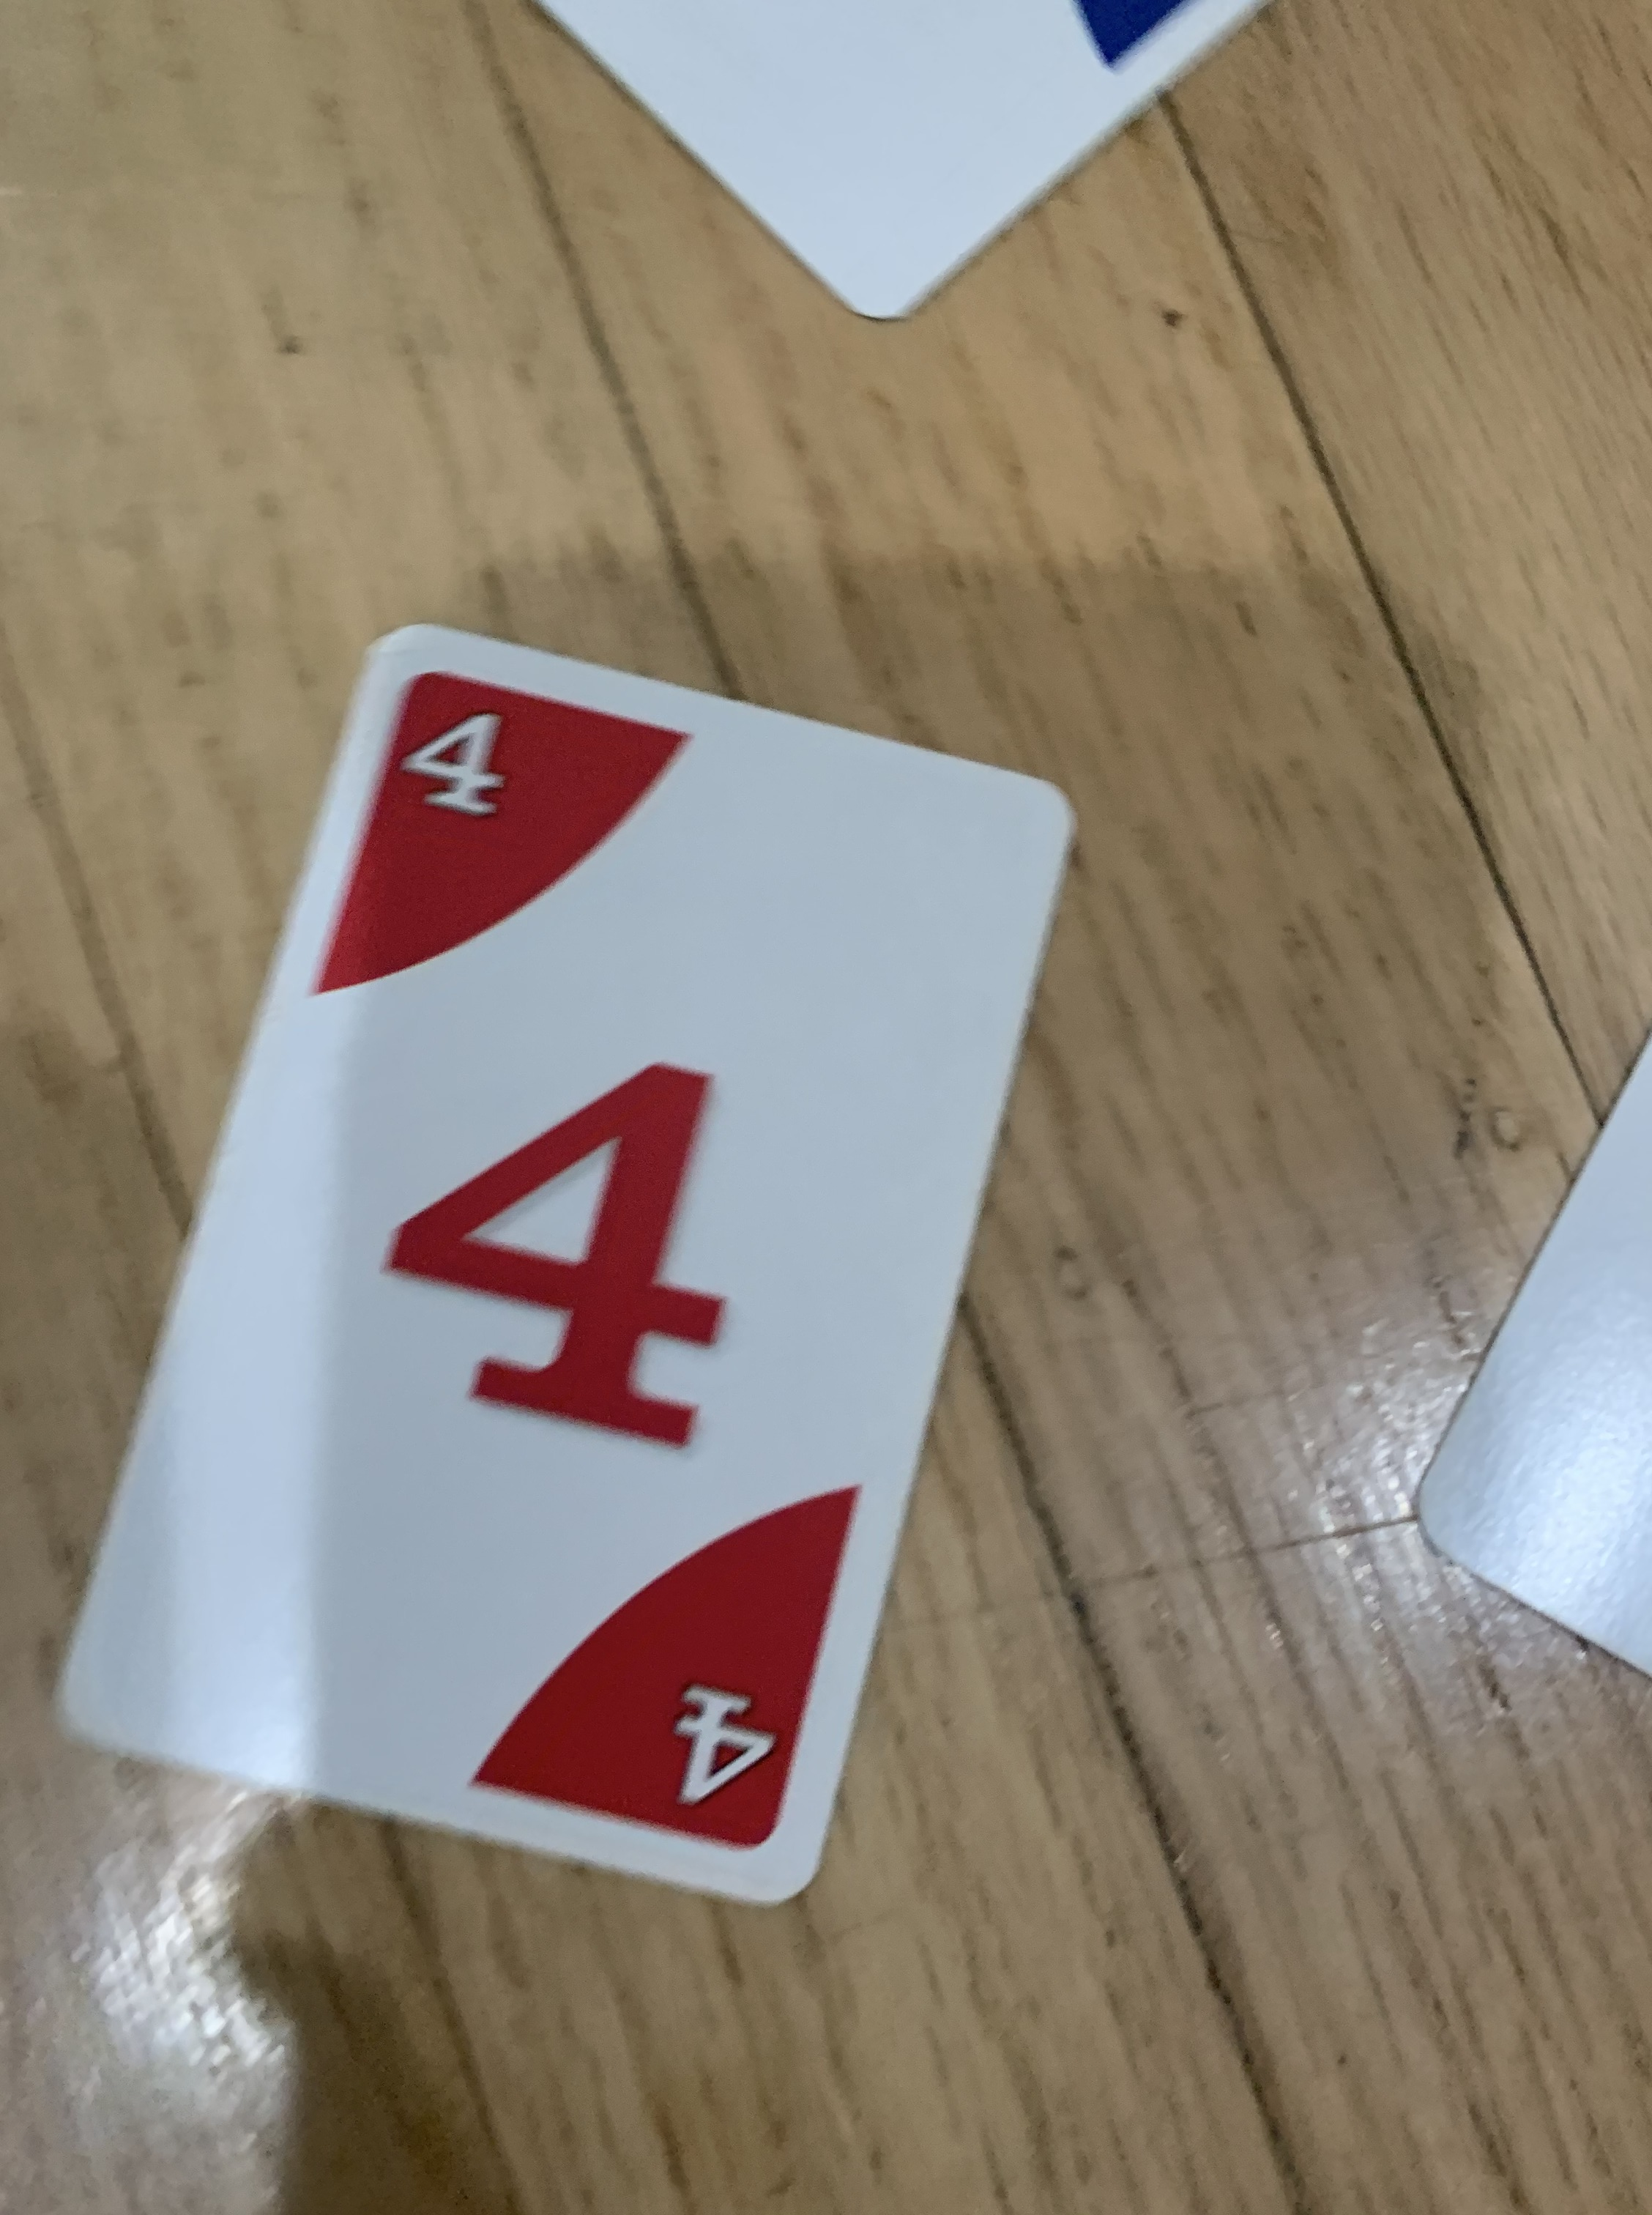four: (42, 609, 1097, 1923)
